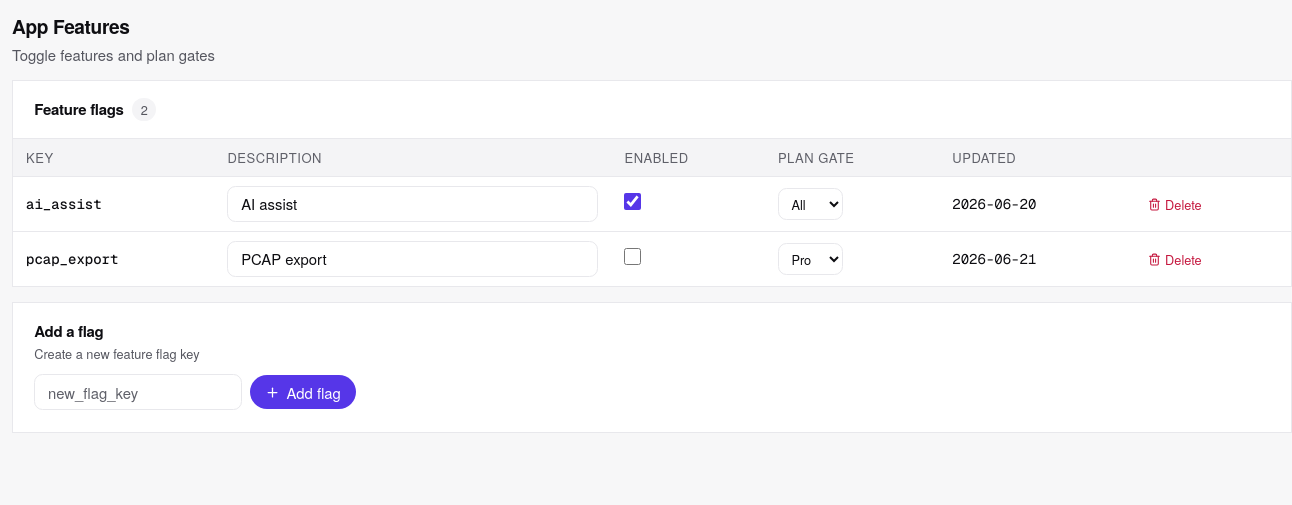
Scenario: FeatureFlagsView › shows an alert when a mutation fails
This screenshot has width=1292, height=505.
Click the checkbox named "enable ai_assist". click: [633, 202]
box: [624,193,642,210]
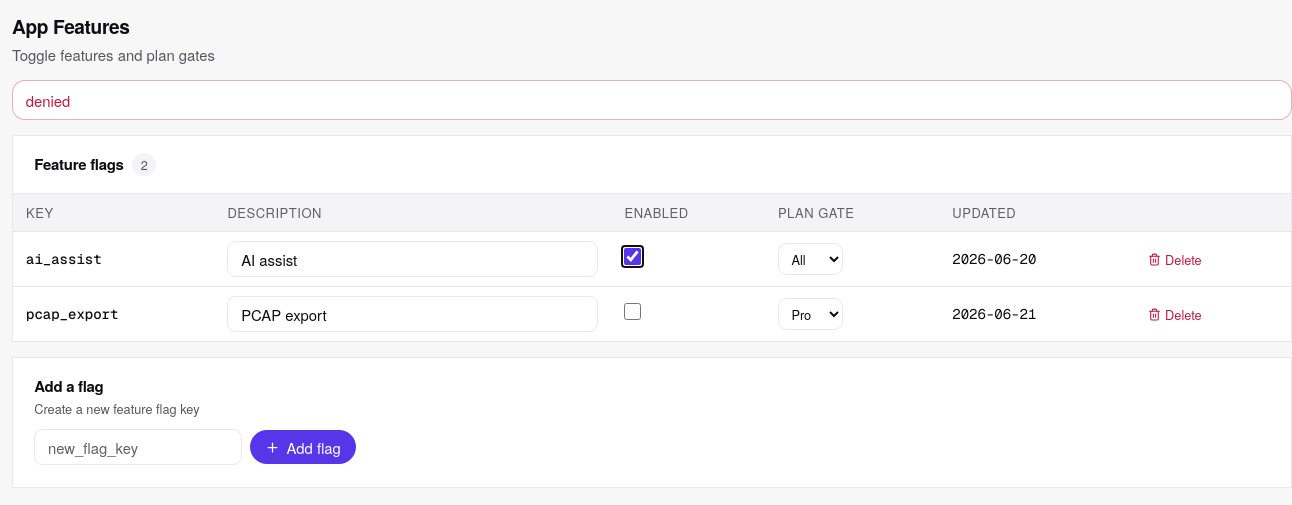
Expected: the message reads "denied", [26,90,70,110]
